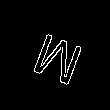M_S: (25, 28, 84, 92)
